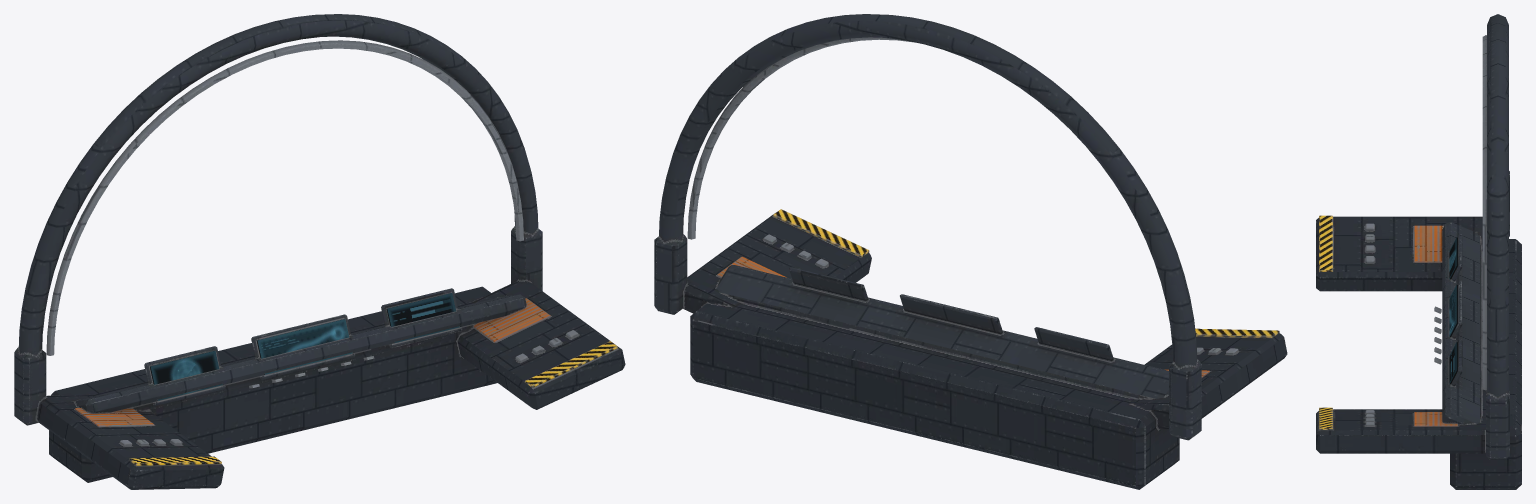
The model's file is cockpit.glb.
3 renders of one model, left to right at view 1: azimuth 30°, elevation 25°; view 2: azimuth 150°, elevation 25°; view 3: azimuth 270°, elevation 25°, orthographic. The views are drawn at different scales.
Parts seen in each view (by area): view 1: Cockpit; view 2: Cockpit; view 3: Cockpit.
Part boxes in pixels (x1,y1,x2,y2): Cockpit: (14,14,625,489); Cockpit: (654,14,1287,489); Cockpit: (1316,14,1521,489).
Size of the model in its own units: 2.72 by 1.97 by 1.03.
Materials: 1 (1 with a texture image).
